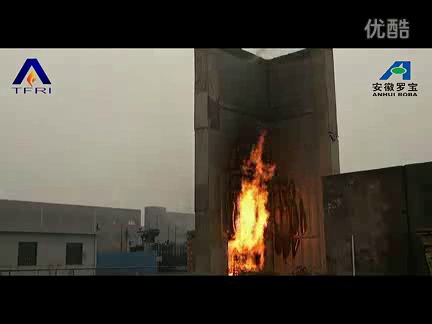fire: (223, 125, 277, 277)
